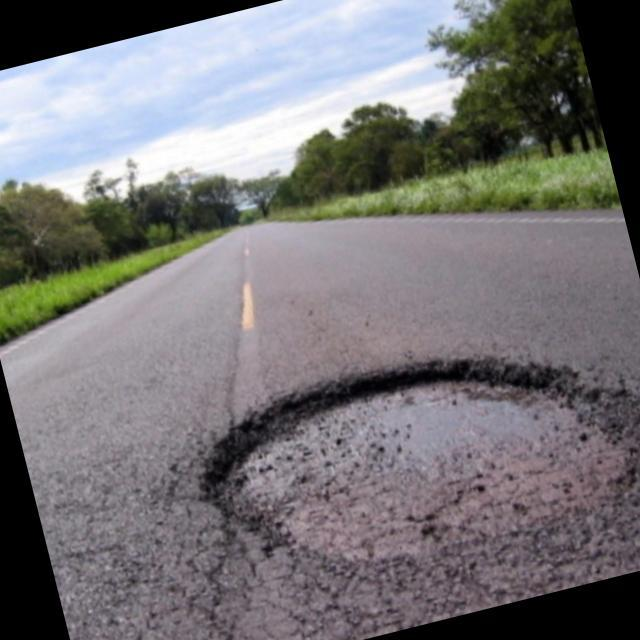Pothole: (164, 287, 640, 640)
